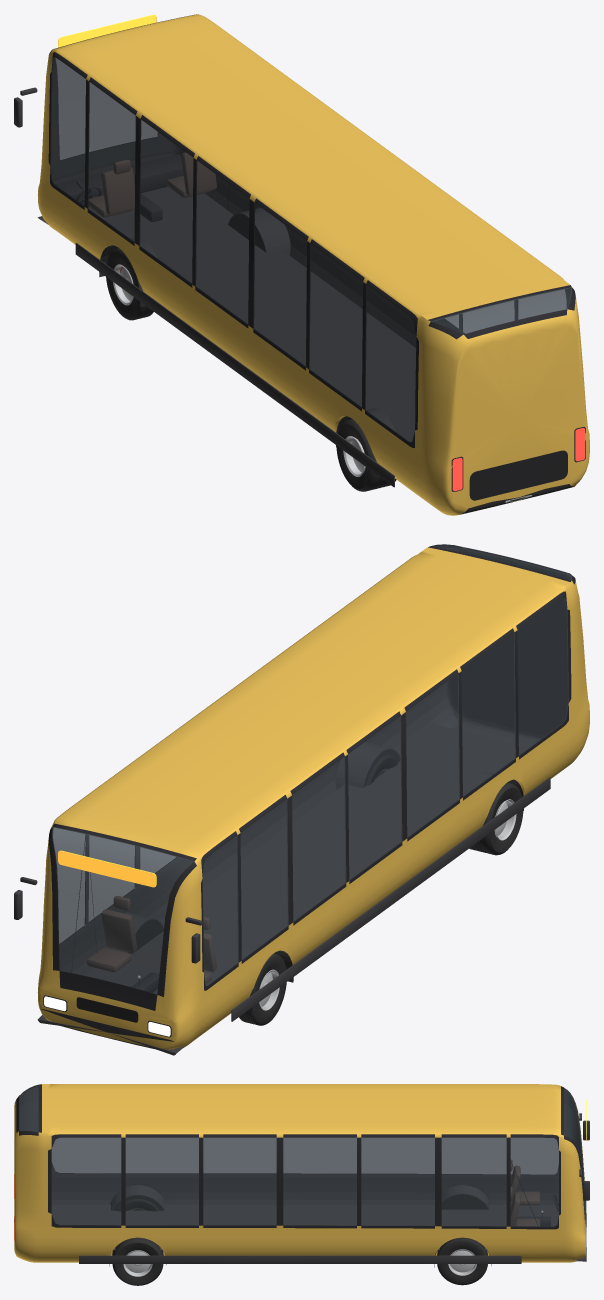
Rendered from t_bus.glb.
3 renders of one model, top to bottom at view 1: azimuth 30°, elevation 25°; view 2: azimuth 150°, elevation 25°; view 3: azimuth 270°, elevation 25°, orthographic. The views are drawn at different scales.
Parts seen in each view (by area): view 1: Body.005, Glass.005, Interior.005, Interior_Shell.005, SkirtStripe, EngineGrille, Wheel_RL.005, Wheel_FL.005, DestinationSign, ArchLiners.005, Lights_Tail.005; view 2: Body.005, Glass.005, Interior.005, Interior_Shell.005, SkirtStripe, Wheel_RL.005, Wheel_FL.005, DestinationSign, ArchLiners.005, Bumper_Front.003, Grille.004; view 3: Body.005, Glass.005, Interior_Shell.005, Interior.005, SkirtStripe, Wheel_RR.005, Wheel_FR.005, ArchLiners.005, Wheel_RL.005, Mirror_Housing.005.
Boxes of the visible parts, <box> form: Body.005: <box>38,14,589,515</box>; Glass.005: <box>50,57,571,442</box>; Interior.005: <box>55,152,416,441</box>; Interior_Shell.005: <box>50,57,571,442</box>; SkirtStripe: <box>75,243,394,487</box>; EngineGrille: <box>469,450,567,500</box>; Wheel_RL.005: <box>336,419,396,491</box>; Wheel_FL.005: <box>106,248,153,320</box>; DestinationSign: <box>58,14,156,47</box>; ArchLiners.005: <box>99,214,378,477</box>; Lights_Tail.005: <box>452,428,585,491</box>; Body.005: <box>37,544,589,1049</box>; Glass.005: <box>52,544,571,994</box>; Interior.005: <box>84,723,529,993</box>; Interior_Shell.005: <box>52,545,571,994</box>; SkirtStripe: <box>231,777,550,1021</box>; Wheel_RL.005: <box>469,782,523,855</box>; Wheel_FL.005: <box>239,953,286,1025</box>; DestinationSign: <box>58,850,156,887</box>; ArchLiners.005: <box>128,749,523,1012</box>; Bumper_Front.003: <box>37,1009,186,1055</box>; Grille.004: <box>76,997,138,1022</box>; Body.005: <box>14,1084,585,1262</box>; Glass.005: <box>19,1085,584,1226</box>; Interior_Shell.005: <box>19,1085,584,1226</box>; Interior.005: <box>51,1159,558,1250</box>; SkirtStripe: <box>79,1255,521,1263</box>; Wheel_RR.005: <box>112,1237,163,1285</box>; Wheel_FR.005: <box>437,1237,487,1285</box>; ArchLiners.005: <box>109,1194,491,1267</box>; Wheel_RL.005: <box>116,1199,159,1211</box>; Mirror_Housing.005: <box>583,1120,589,1200</box>.
Size of what is drawn, in the model's own units: 2.98 by 3.45 by 11.71.
